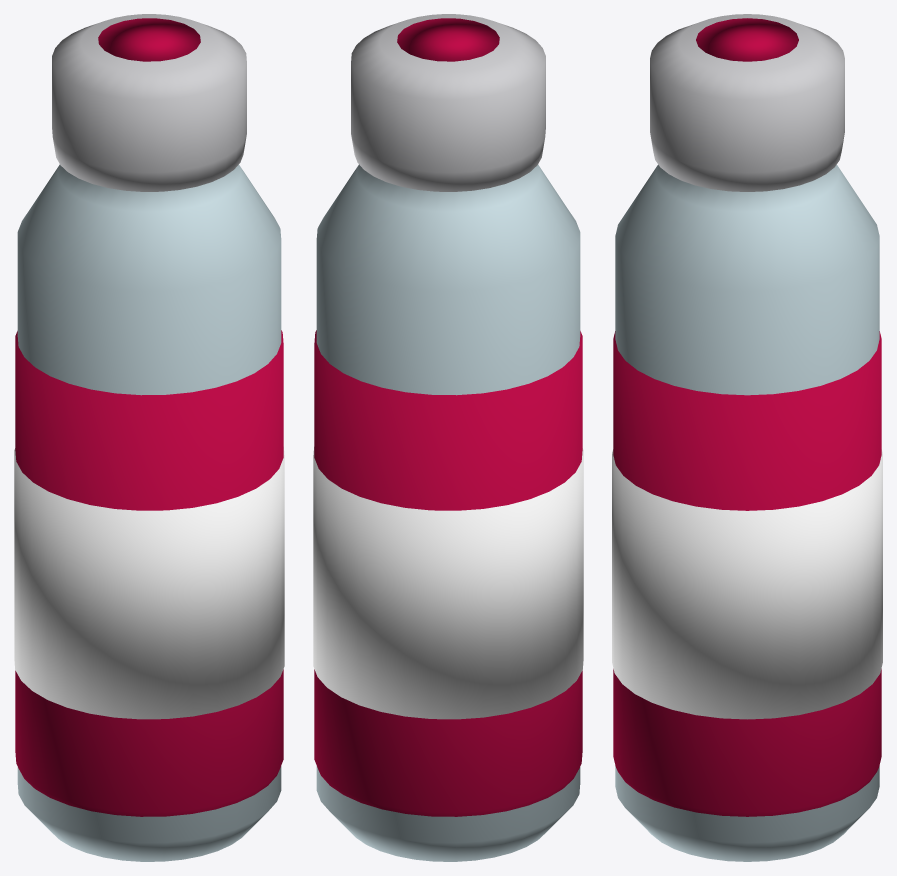
Rendered from SM_Bloodthirst.glb.
The picture shows the model from 3 angles, left to right: view 1: azimuth 30°, elevation 25°; view 2: azimuth 150°, elevation 25°; view 3: azimuth 270°, elevation 25°; orthographic projection.
Visible parts, largest first — view 1: SM_Bloodthirst; view 2: SM_Bloodthirst; view 3: SM_Bloodthirst.
Part boxes in pixels (box(x1,y1,x2,y2)): SM_Bloodthirst: box(14, 14, 284, 861); SM_Bloodthirst: box(313, 14, 583, 861); SM_Bloodthirst: box(612, 14, 882, 861).
Bounding box in the file's own units: 0.0236 × 0.0752 × 0.0236.
